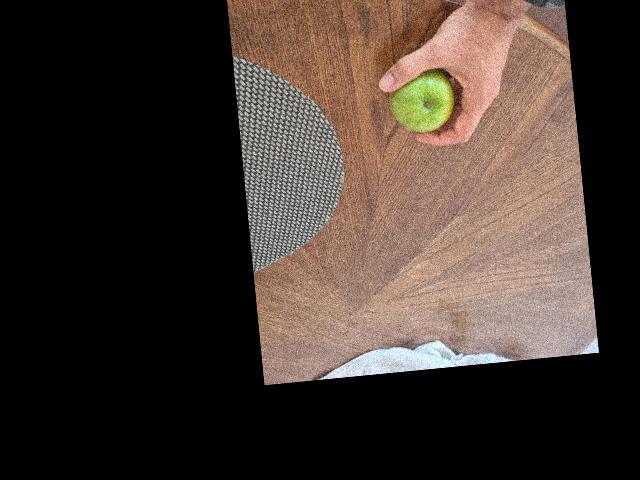apple: (381, 71, 453, 132)
